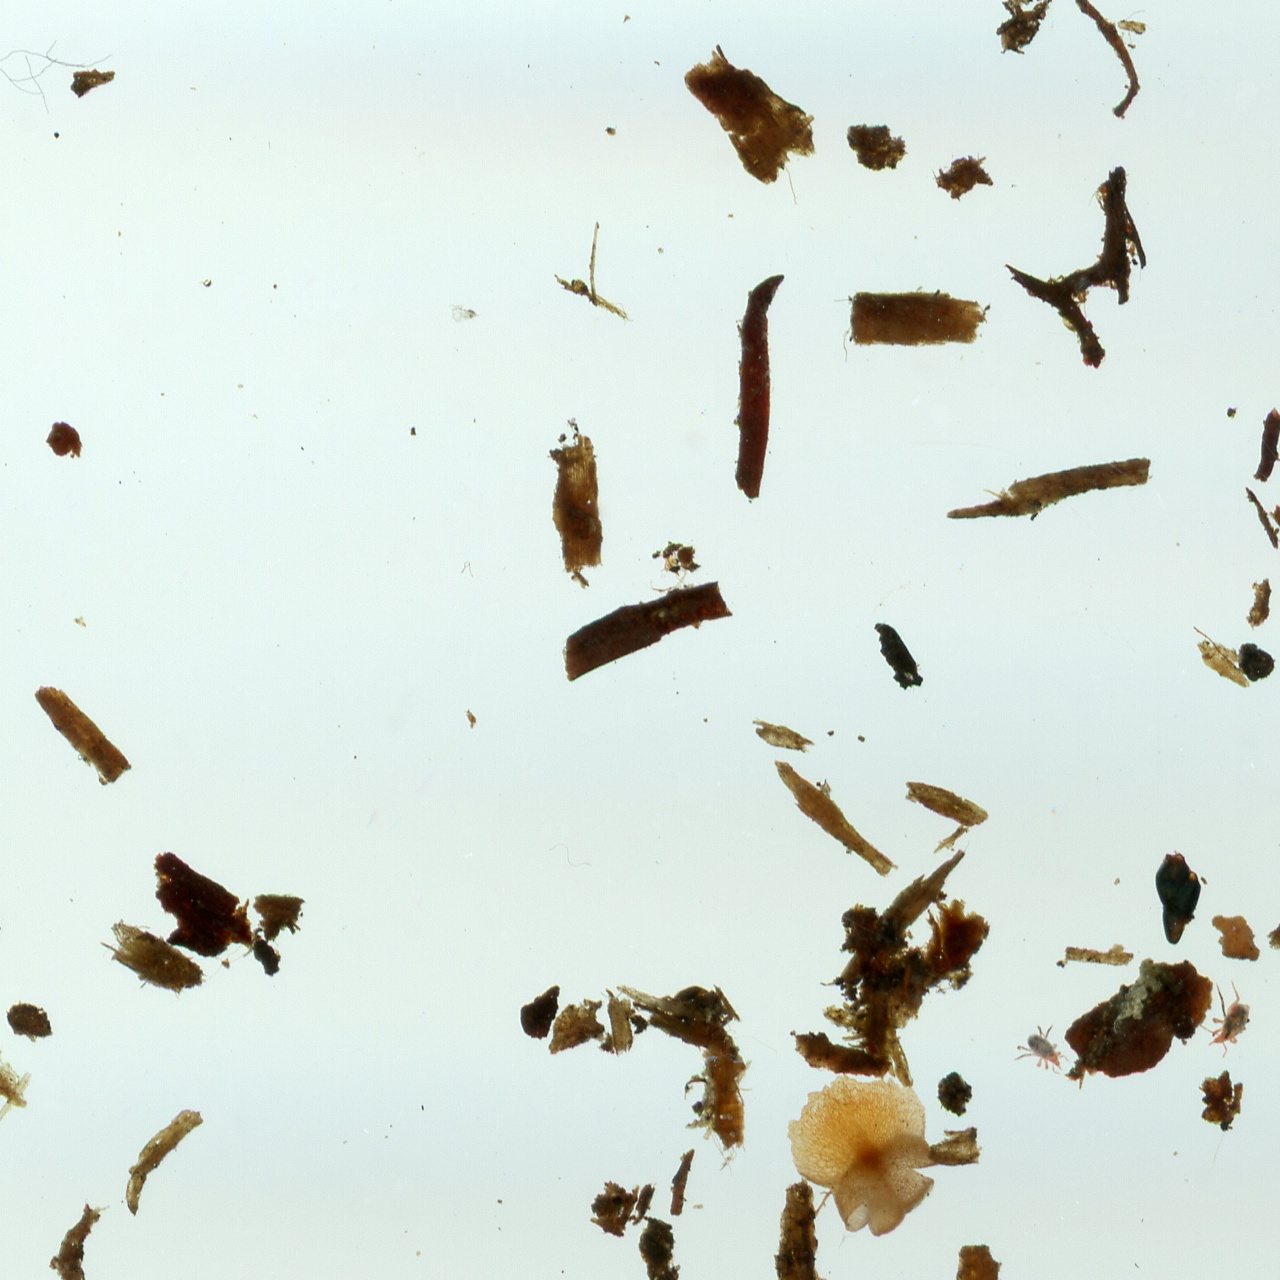arthropod: (1197, 976, 1253, 1061), (1013, 1022, 1070, 1076)
